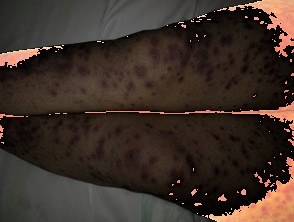SJS-TEN: (0, 0, 294, 117), (0, 110, 294, 222)
